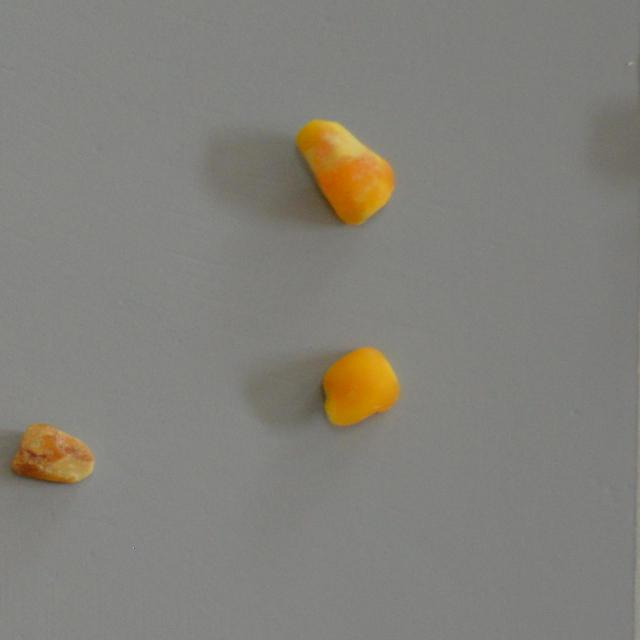dañado: (282, 112, 400, 232), (306, 326, 420, 434), (0, 404, 106, 512)
